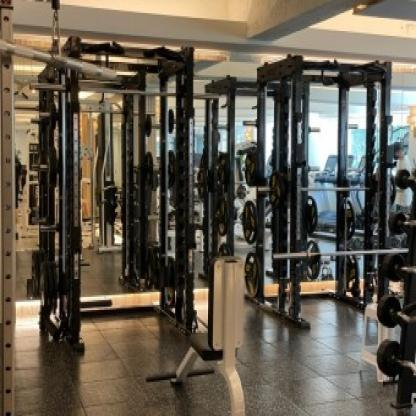smith machine: (39, 38, 197, 358), (247, 54, 393, 336)
